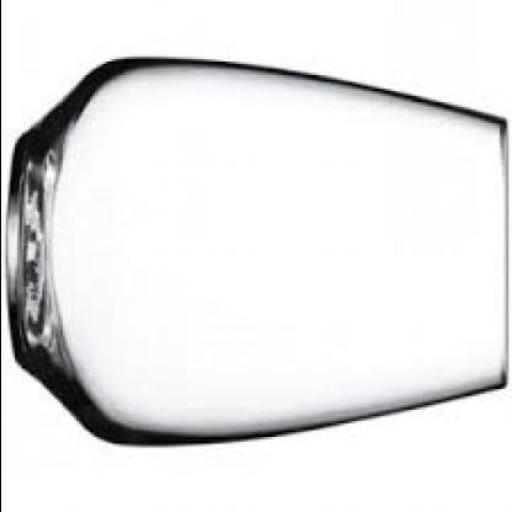glass: (9, 59, 510, 446)
